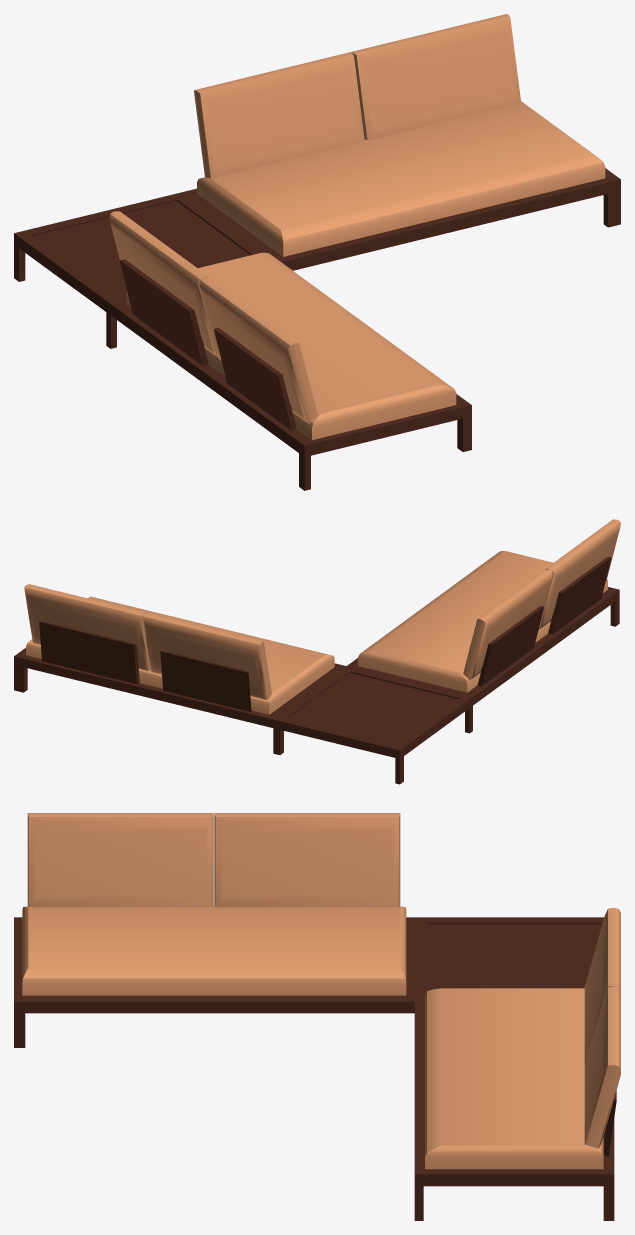
Rendered from GarSeatCorner.fbx.
3 renders of one model, top to bottom at view 1: azimuth 30°, elevation 25°; view 2: azimuth 150°, elevation 25°; view 3: azimuth 270°, elevation 25°, orthographic. The views are drawn at different scales.
Parts seen in each view (by area): view 1: Corner; view 2: Corner; view 3: Corner.
Part boxes in pixels (x1,y1,x2,y2): Corner: (14,14,620,490); Corner: (14,519,620,784); Corner: (14,813,620,1220).
Bounding box in the file's own units: 248 × 65.48 × 243.
